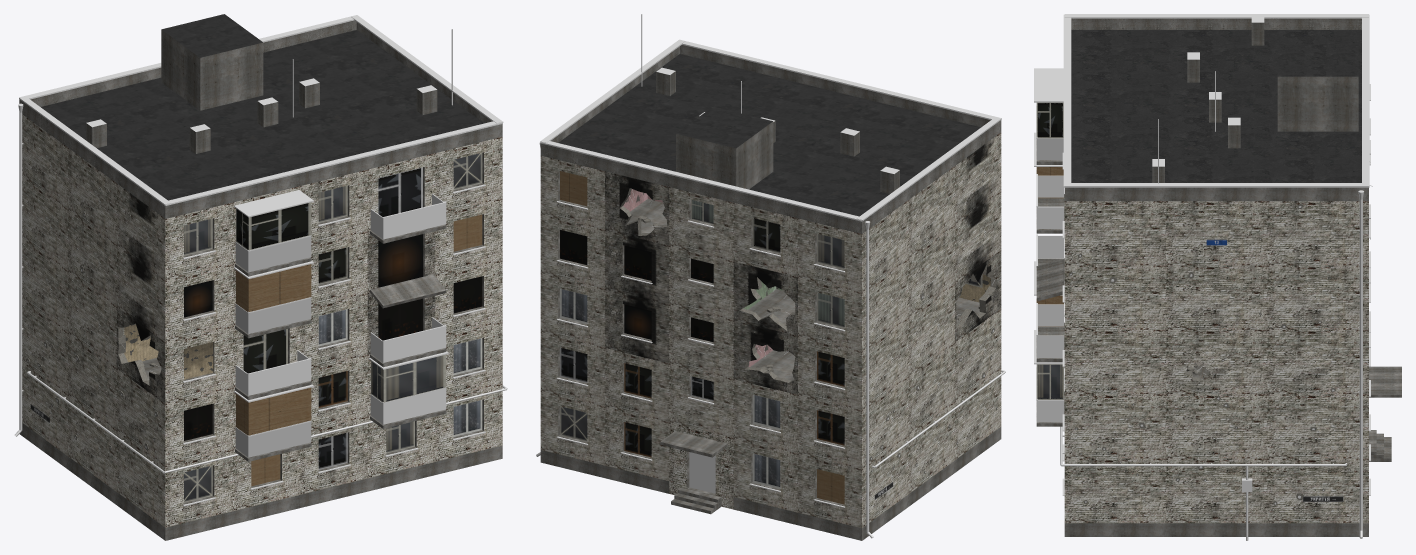
Rendered from S1U_KH_Brickholed.fbx.
3 views of the same model, side by side, from view 1: azimuth 30°, elevation 25°; view 2: azimuth 150°, elevation 25°; view 3: azimuth 270°, elevation 25° (orthographic). The views are drawn at different scales.
Parts seen in each view (by area): view 1: S1U_KH_Brickholed; view 2: S1U_KH_Brickholed; view 3: S1U_KH_Brickholed.
Part boxes in pixels (<box>): S1U_KH_Brickholed: <box>14,14,507,540</box>; S1U_KH_Brickholed: <box>536,14,1005,540</box>; S1U_KH_Brickholed: <box>1034,14,1401,540</box>.
Size of the model in its own units: 16.79 by 18.14 by 14.5.
